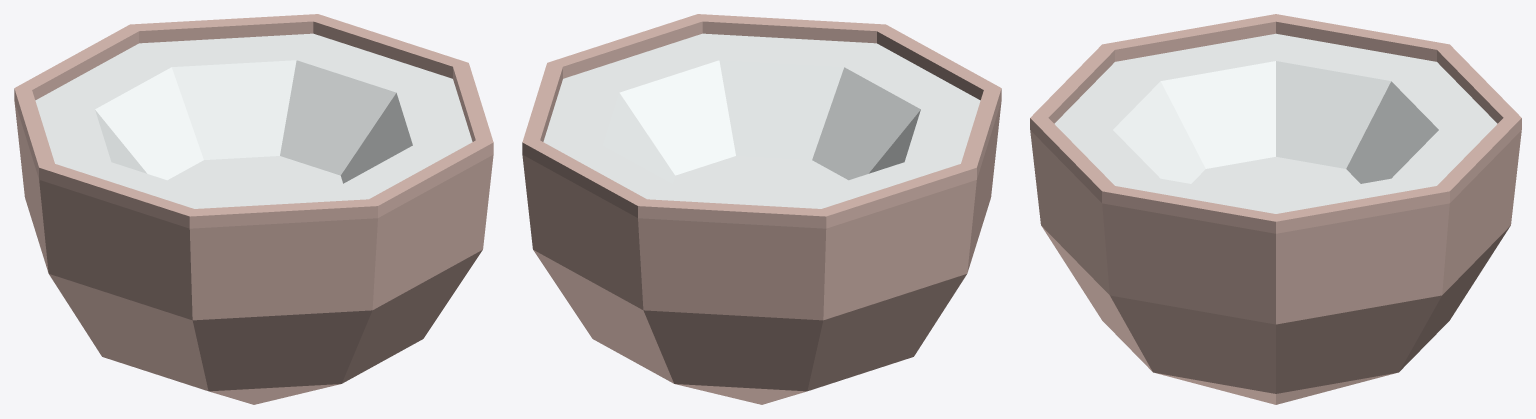
Rendered from Coconut.fbx.
3 renders of one model, left to right at view 1: azimuth 30°, elevation 25°; view 2: azimuth 150°, elevation 25°; view 3: azimuth 270°, elevation 25°, orthographic.
Visible parts, largest first — view 1: Coconut; view 2: Coconut; view 3: Coconut.
Boxes of the visible parts, bbox=[...] form: Coconut: bbox=[14, 14, 493, 404]; Coconut: bbox=[522, 14, 1001, 404]; Coconut: bbox=[1030, 14, 1521, 404].
Size of the model in its own units: 0.1296 by 0.0835 by 0.1296.
